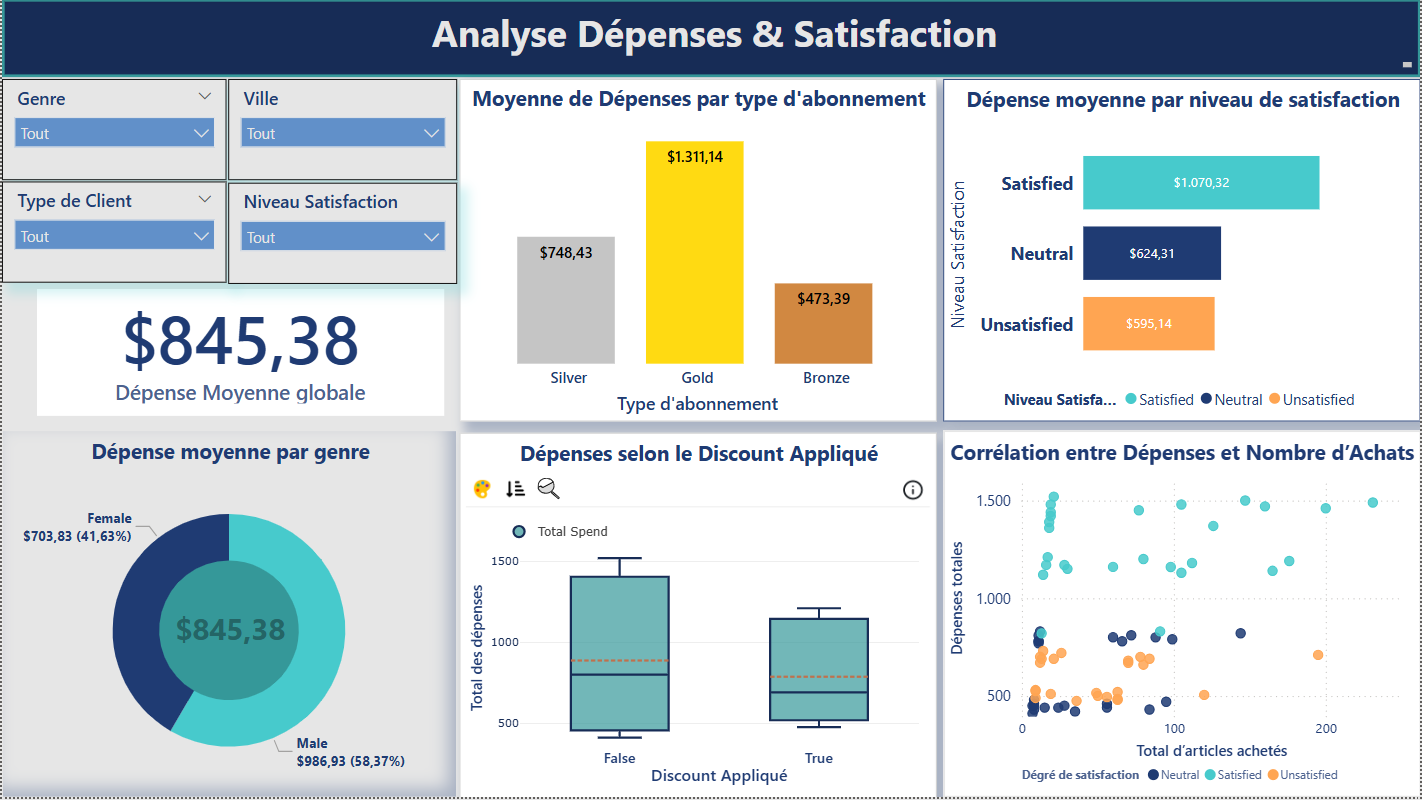

This screenshot's page, from the dashboard's own definition file:
{"tool":"powerbi","page":{"name":"Analyse Dépenses et Satisfaction","canvas":[1280,720],"ordinal":2},"visuals":[{"type":"card","fields":{"Values":["e_commerce_Customer_Behavior.Dépense moyenne par genre"]},"box":[123.8,505,164.2,128],"z":0},{"type":"textbox","title":"Analyse Dépenses & Satisfaction","box":[0,0,1280,70],"z":1000},{"type":"slicer","fields":{"Values":["e_commerce_Customer_Behavior.Gender"]},"box":[0,72.1,202.8,90.8],"z":2000},{"type":"slicer","fields":{"Values":["e_commerce_Customer_Behavior.City"]},"box":[204,72.1,206.5,90.8],"z":3000},{"type":"columnChart","title":"Moyenne de Dépenses par type d''abonnement","fields":{"Category":["e_commerce_Customer_Behavior.Membership Type"],"Y":["e_commerce_Customer_Behavior.Average Spend by Membership"],"Series":["e_commerce_Customer_Behavior.Membership Type"]},"box":[413,72.1,430,308.5],"z":4000},{"type":"barChart","title":"Dépense moyenne par niveau de satisfaction","fields":{"Series":["e_commerce_Customer_Behavior.Satisfaction Level"],"Category":["e_commerce_Customer_Behavior.Satisfaction Level"],"Y":["e_commerce_Customer_Behavior.Average Spend by Membership"]},"box":[848.4,72.1,431,308.5],"z":5000},{"type":"donutChart","title":"Dépense moyenne par genre","fields":{"Y":["e_commerce_Customer_Behavior.Dépense moyenne par genre"],"Category":["e_commerce_Customer_Behavior.Gender"]},"box":[0,389.4,410.5,330.9],"z":6000},{"type":"boxandwhiskerwithpoints6C29D629F202A5FF5B6B023486584FCA","title":"Dépenses selon le Discount Appliqué","fields":{"col_0":["e_commerce_Customer_Behavior.Discount Applied"],"col_2":["e_commerce_Customer_Behavior.Total Spend"]},"box":[413,390.6,430,330],"z":7000},{"type":"scatterChart","title":"Corrélation entre Dépenses et Nombre d’Achats","fields":{"X":["Sum(e_commerce_Customer_Behavior.Items Purchased)"],"Y":["e_commerce_Customer_Behavior.Total Spend"],"Series":["e_commerce_Customer_Behavior.Satisfaction Level"]},"box":[848.3,389.1,431.7,330.9],"z":8000},{"type":"card","fields":{"Values":["e_commerce_Customer_Behavior.Dépense Moyenne globale"]},"box":[31.1,261.2,367,114.4],"z":9000},{"type":"slicer","fields":{"Values":["e_commerce_Customer_Behavior.Membership Type"]},"box":[0,164.2,202.8,90.8],"z":10000},{"type":"slicer","fields":{"Values":["e_commerce_Customer_Behavior.Satisfaction Level"]},"box":[204,165.4,206.5,90.8],"z":11000}]}

Visuals, with their boxes in screenshot pixels (x1, y1, x2, y2), scaled from the page's 1280x720 canvas onto the 1422x800 screenshot:
card - e_commerce_Customer_Behavior.Dépense moyenne par genre: select_region(138, 561, 320, 703)
"Analyse Dépenses & Satisfaction" textbox: select_region(0, 0, 1421, 78)
slicer - e_commerce_Customer_Behavior.Gender: select_region(0, 80, 225, 181)
slicer - e_commerce_Customer_Behavior.City: select_region(227, 80, 456, 181)
"Moyenne de Dépenses par type d''abonnement" columnChart: select_region(459, 80, 937, 423)
"Dépense moyenne par niveau de satisfaction" barChart: select_region(943, 80, 1421, 423)
"Dépense moyenne par genre" donutChart: select_region(0, 433, 456, 799)
"Dépenses selon le Discount Appliqué" boxandwhiskerwithpoints6C29D629F202A5FF5B6B023486584FCA: select_region(459, 434, 937, 799)
"Corrélation entre Dépenses et Nombre d’Achats" scatterChart: select_region(942, 432, 1421, 799)
card - e_commerce_Customer_Behavior.Dépense Moyenne globale: select_region(35, 290, 442, 417)
slicer - e_commerce_Customer_Behavior.Membership Type: select_region(0, 182, 225, 283)
slicer - e_commerce_Customer_Behavior.Satisfaction Level: select_region(227, 184, 456, 285)
